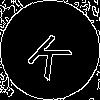K: (25, 25, 81, 82)
